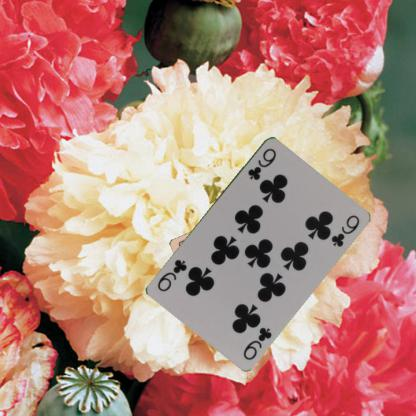9c: (240, 324, 274, 361), (245, 145, 278, 181)
